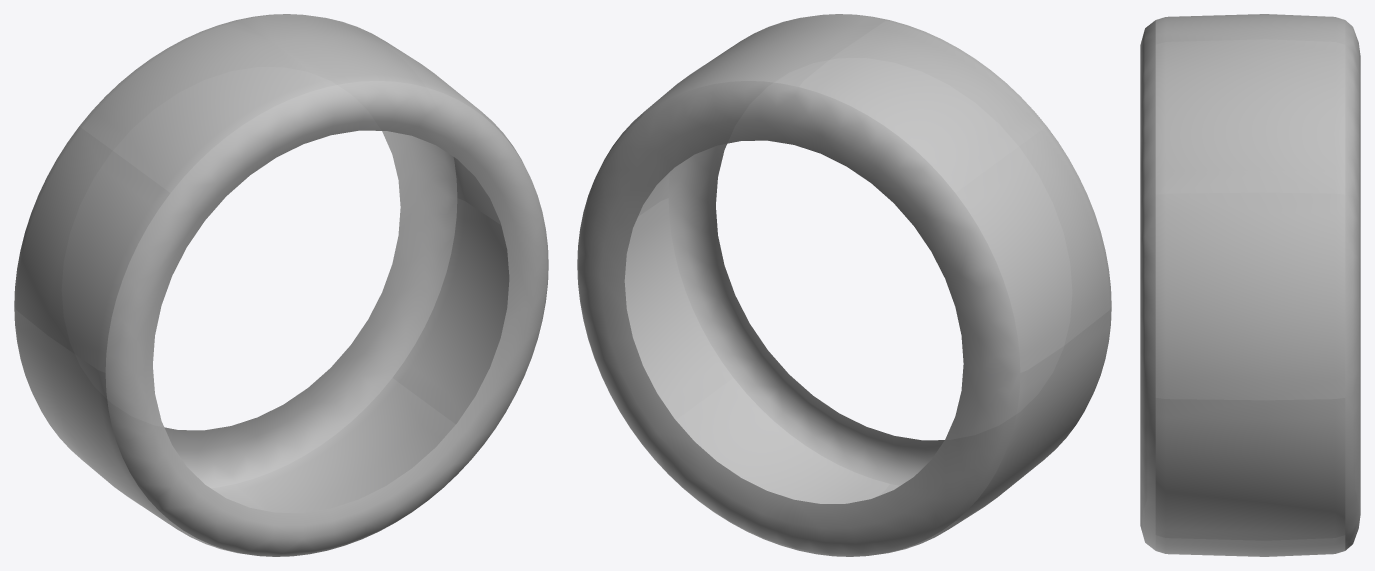
The model's file is gt3rs-tyres.glb.
The picture shows the model from 3 angles, left to right: view 1: azimuth 30°, elevation 25°; view 2: azimuth 150°, elevation 25°; view 3: azimuth 270°, elevation 25°; orthographic projection. The views are drawn at different scales.
Visible parts, largest first — view 1: RS_wheel_lf.child.001; view 2: RS_wheel_lf.child.001; view 3: RS_wheel_lf.child.001.
Part boxes in pixels (left/top/right/bottom): RS_wheel_lf.child.001: left=14, top=14, right=548, bottom=556; RS_wheel_lf.child.001: left=577, top=14, right=1111, bottom=556; RS_wheel_lf.child.001: left=1140, top=14, right=1360, bottom=556.
Size of the model in its own units: 2.15 by 2.15 by 0.8728.
1 material, 1 textured.
